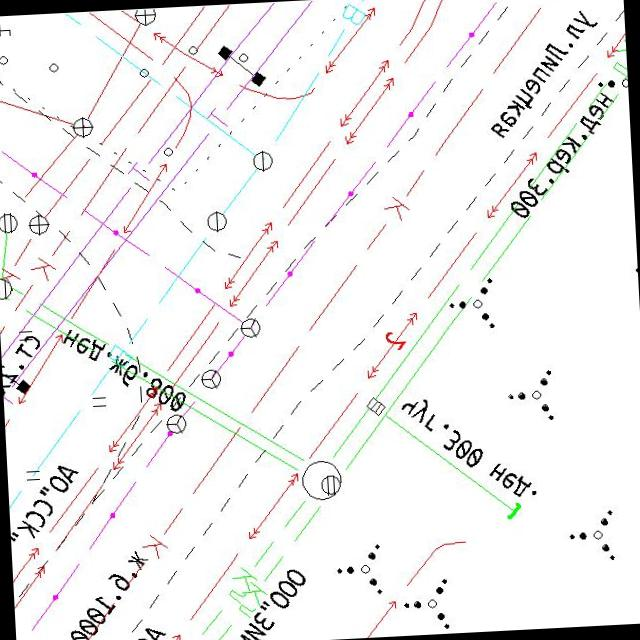bushes: (446, 275, 498, 333), (334, 542, 386, 600), (505, 368, 557, 424), (566, 508, 618, 564), (400, 578, 453, 632)
well: (299, 457, 344, 503), (204, 208, 230, 235), (70, 114, 96, 140), (250, 148, 276, 174), (164, 411, 190, 437), (26, 212, 52, 238), (198, 367, 225, 392), (238, 315, 263, 341), (0, 210, 19, 236)
